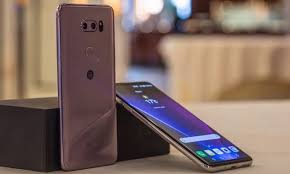lg: (52, 1, 118, 171)
